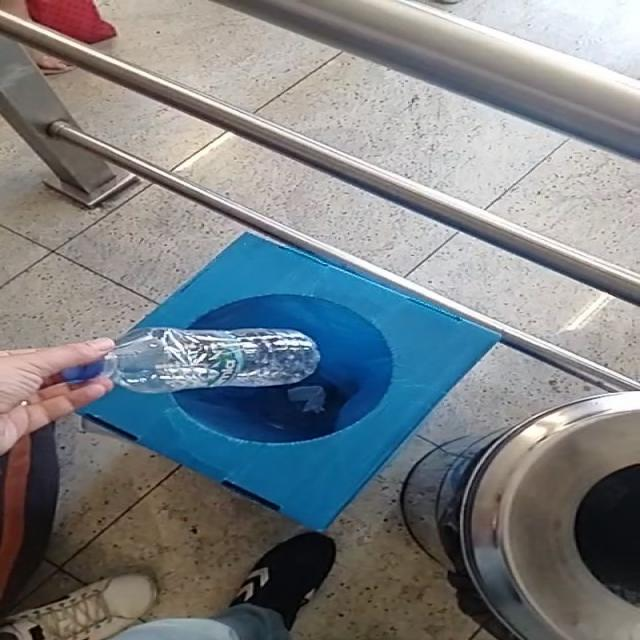plastic: (63, 328, 320, 393)
